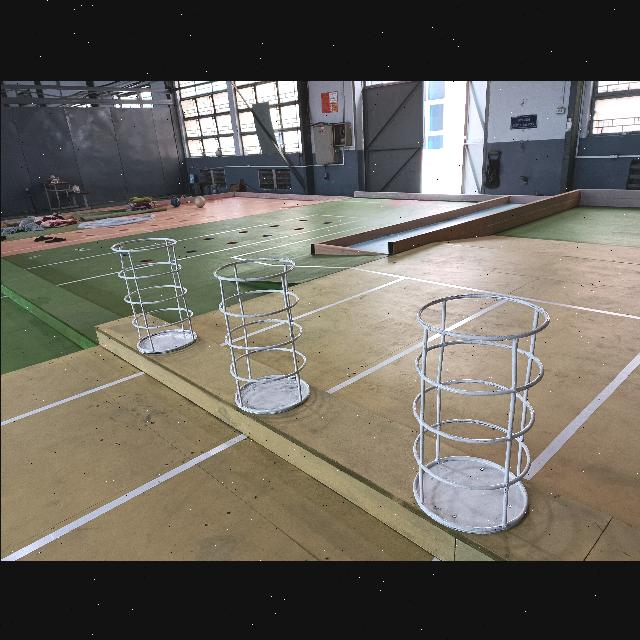S: (412, 294, 549, 528), (212, 258, 310, 412), (109, 237, 197, 354)
